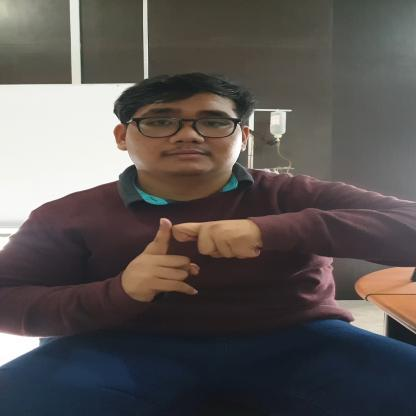K: (113, 214, 270, 304)
